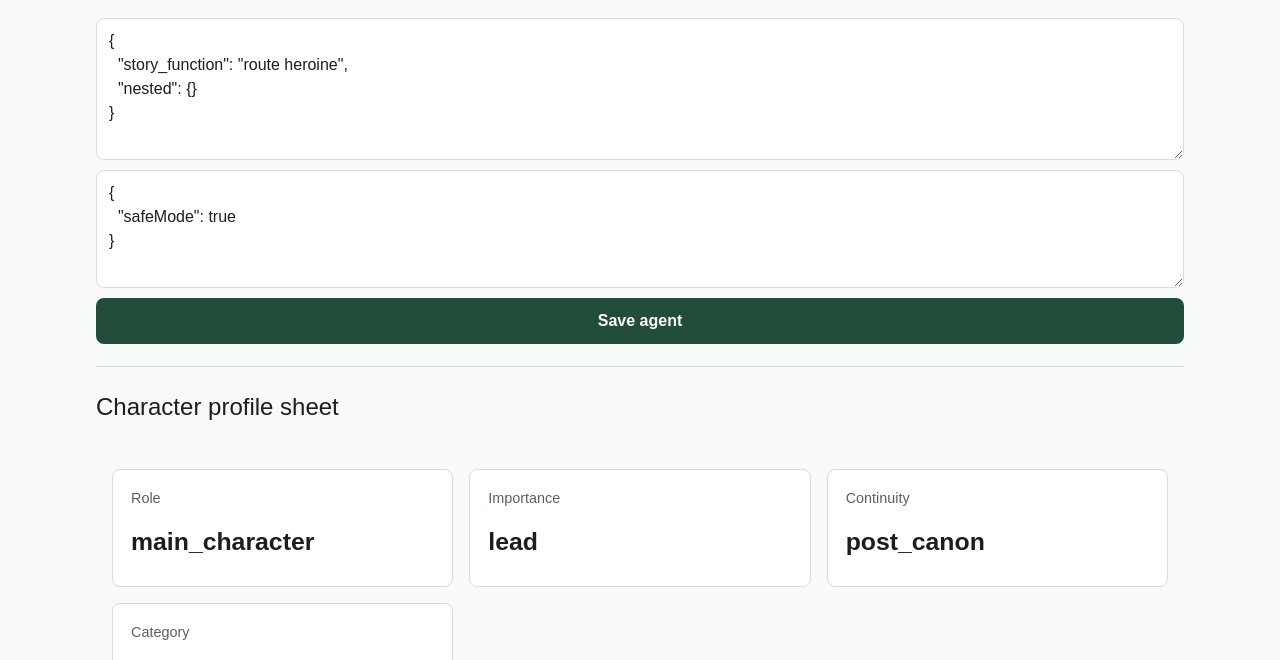
AgentBuilder › redacts sensitive agent builder JSON and run text
(page scrolled)
Expected: the 1st text box showing "story_function" is shown, [96,18,1184,160]
Expected: the 2nd text box showing "safeMode" is shown, [96,170,1184,288]
Click the button "Save agent": (640, 321) [96,298,1184,344]
(page scrolled)
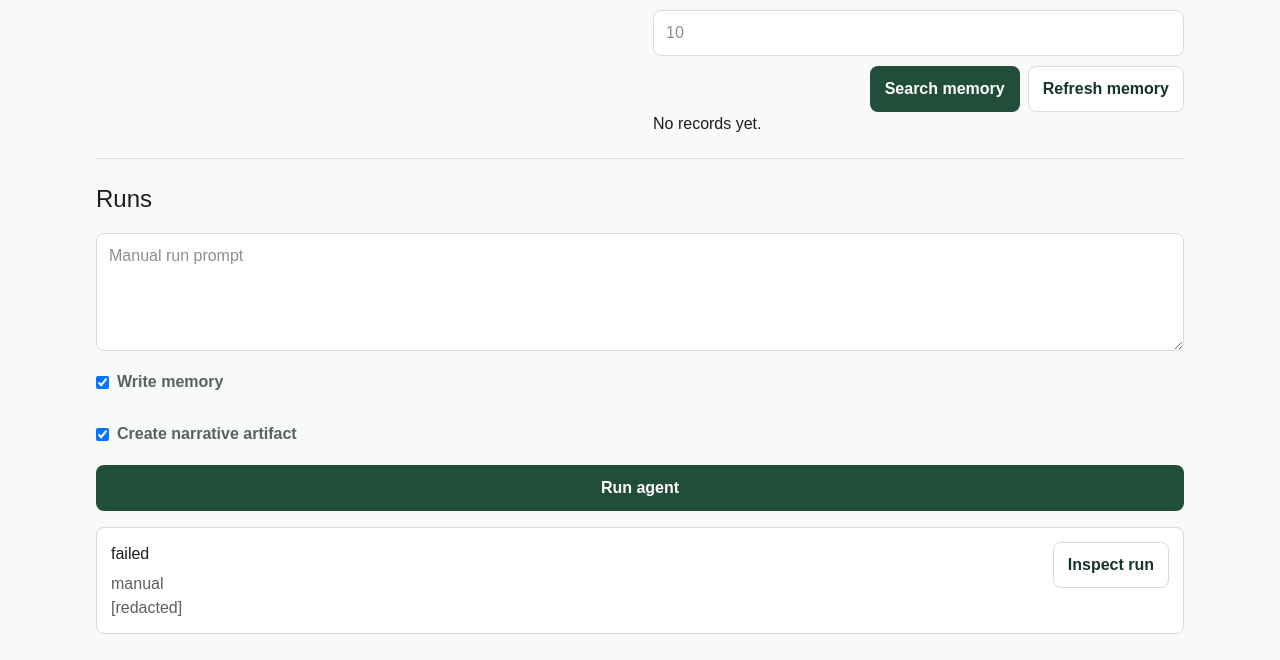
Click the button "Inspect run": (1111, 565) [1053,542,1169,588]
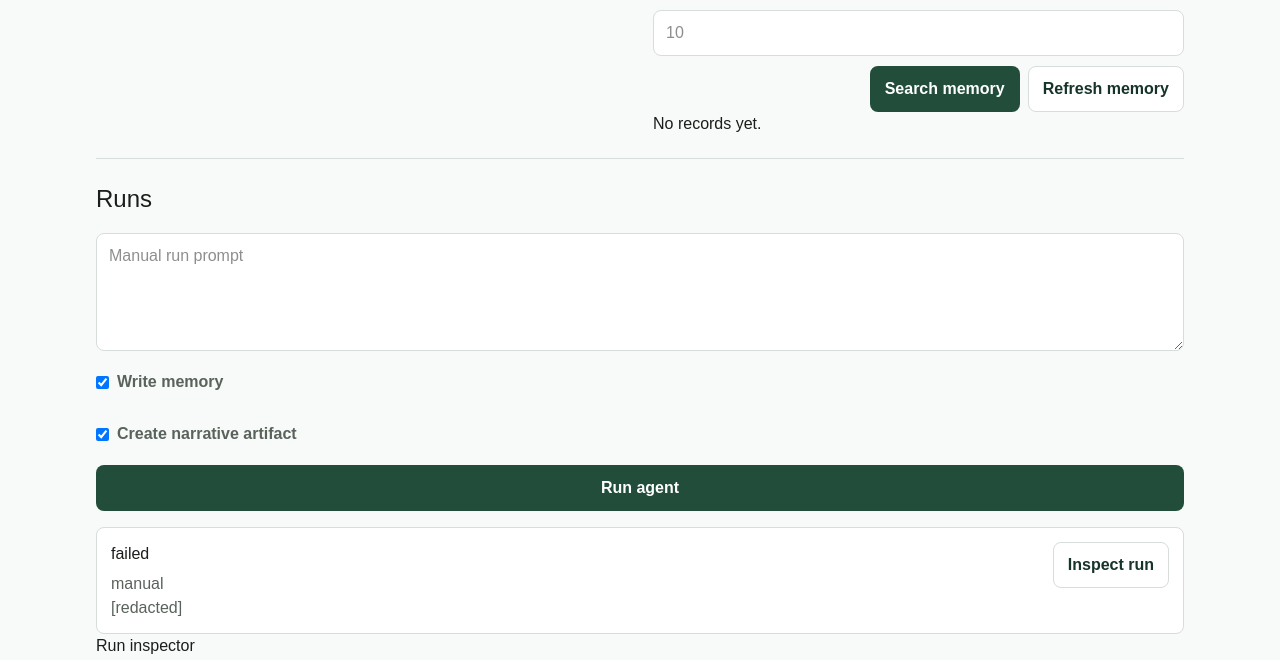
Now the heading "Run inspector" is shown, box [96,637,195,654]
